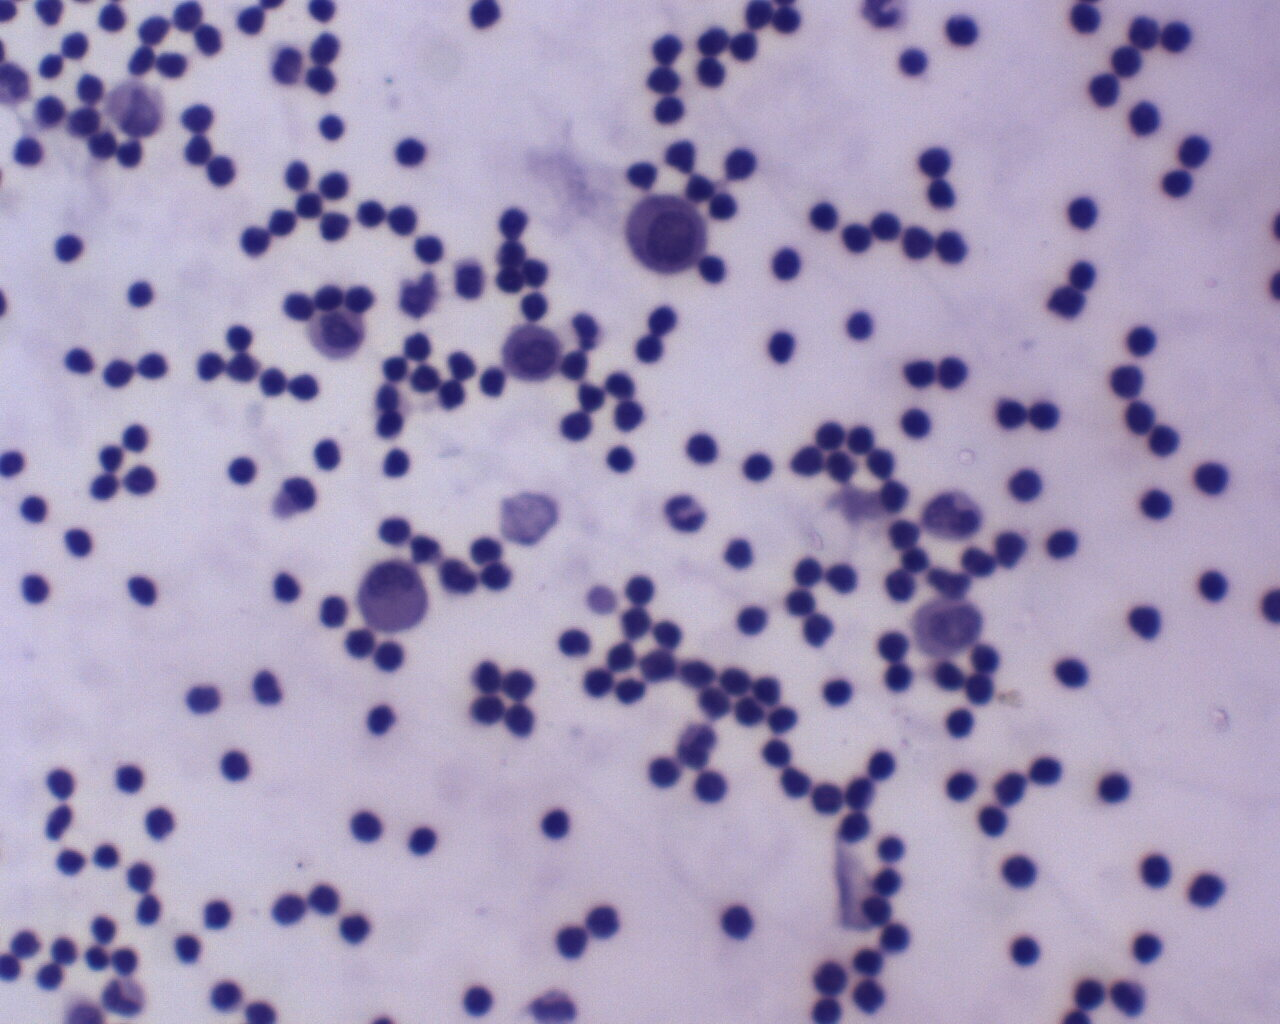ab: (910, 596, 987, 662), (104, 73, 172, 143)
lymph: (1003, 465, 1055, 512), (680, 426, 734, 471), (199, 890, 243, 938), (57, 521, 106, 565), (1135, 481, 1178, 529), (1051, 647, 1093, 696), (893, 403, 940, 446), (1117, 318, 1161, 363), (1060, 189, 1106, 232), (889, 40, 935, 83), (713, 900, 757, 944), (535, 800, 578, 845), (390, 131, 433, 174), (648, 91, 693, 133), (1137, 848, 1179, 893), (1125, 99, 1166, 145), (734, 598, 773, 645), (763, 240, 806, 283), (897, 223, 939, 265), (235, 219, 275, 265), (1003, 931, 1050, 970), (140, 801, 179, 847), (973, 802, 1018, 841), (343, 808, 383, 850), (939, 705, 980, 746), (213, 747, 255, 787), (689, 766, 732, 804), (313, 109, 355, 147), (553, 920, 589, 963), (1127, 923, 1164, 967), (1095, 764, 1131, 809), (16, 487, 56, 526), (501, 700, 538, 742), (460, 981, 499, 1020), (124, 273, 161, 315), (335, 910, 374, 949), (111, 759, 148, 798), (220, 449, 261, 486), (1002, 848, 1038, 890), (843, 299, 877, 343), (45, 227, 84, 264), (762, 329, 799, 367), (378, 444, 415, 483), (404, 825, 444, 861), (1029, 393, 1065, 433), (1197, 566, 1231, 608), (88, 837, 124, 875), (374, 634, 408, 674), (194, 346, 226, 388), (1064, 254, 1098, 292), (122, 416, 153, 453)
meso: (623, 192, 711, 276), (356, 561, 430, 632), (305, 303, 368, 365), (501, 322, 564, 382)
neutro: (664, 491, 709, 539)
